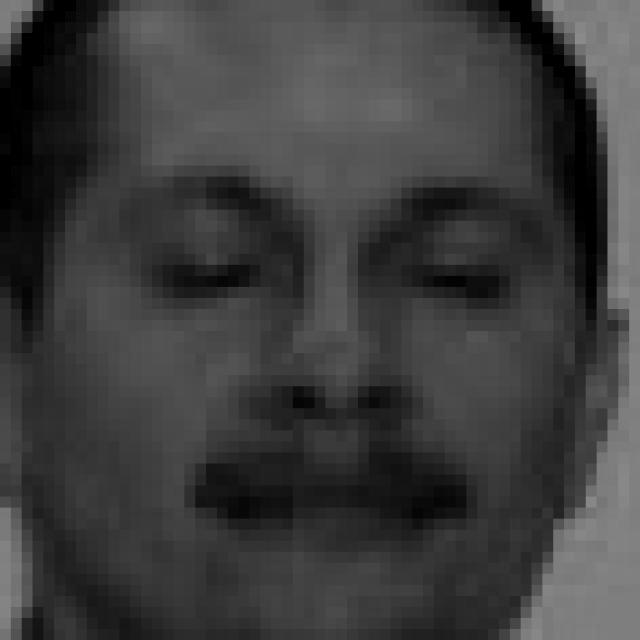real: (36, 14, 573, 626), (120, 168, 513, 344)
